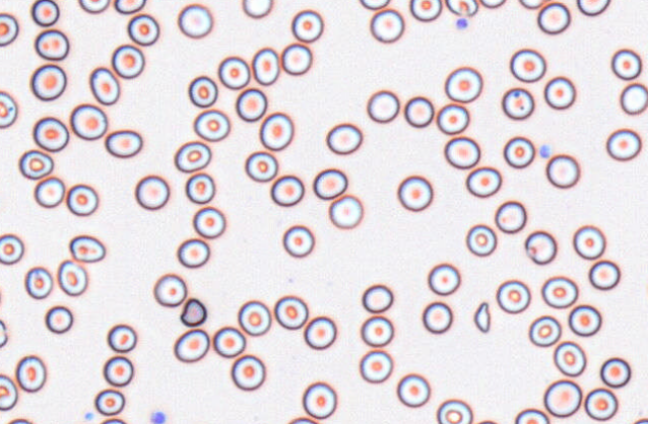PLT: (150, 410, 166, 424), (539, 143, 553, 158), (455, 18, 468, 30), (84, 412, 96, 421)
RBC: (543, 379, 582, 417), (69, 103, 107, 140), (444, 66, 482, 103), (30, 63, 66, 101), (259, 111, 293, 151), (397, 174, 433, 211), (32, 116, 69, 152), (302, 381, 337, 419), (230, 354, 265, 391), (509, 47, 546, 82), (177, 3, 213, 38), (134, 174, 169, 210), (237, 299, 271, 336), (545, 153, 580, 188), (369, 8, 404, 43), (328, 194, 363, 229), (173, 328, 209, 362), (193, 108, 230, 141), (541, 275, 578, 308), (89, 66, 120, 105), (273, 295, 308, 329), (358, 349, 393, 383), (495, 279, 530, 313), (572, 224, 606, 259), (553, 340, 586, 376), (444, 136, 480, 169), (605, 128, 641, 161), (325, 122, 362, 154), (174, 140, 211, 172), (15, 354, 46, 392), (396, 373, 430, 407), (111, 44, 144, 79), (303, 315, 336, 349), (153, 273, 187, 306), (584, 387, 618, 420), (524, 230, 557, 264), (217, 55, 250, 89), (543, 75, 576, 109), (366, 89, 399, 123), (312, 168, 347, 200), (34, 28, 69, 60), (465, 166, 501, 197), (57, 259, 87, 296), (104, 129, 142, 158), (427, 262, 460, 295), (537, 1, 570, 34), (528, 314, 561, 347), (501, 87, 534, 120), (235, 87, 267, 121), (270, 174, 304, 206), (244, 150, 278, 182), (251, 47, 279, 85), (568, 304, 601, 336), (127, 13, 159, 46), (465, 223, 497, 256), (360, 315, 393, 347), (503, 135, 535, 168), (494, 200, 526, 233), (66, 183, 98, 216), (291, 9, 323, 42), (192, 206, 225, 238), (282, 224, 314, 257), (18, 149, 53, 179), (610, 48, 642, 80), (599, 356, 631, 388), (212, 326, 245, 357), (421, 301, 452, 334), (436, 103, 469, 134), (176, 237, 209, 268), (281, 42, 312, 75), (69, 234, 105, 262), (33, 176, 64, 208), (187, 75, 218, 107), (588, 259, 620, 290), (102, 355, 133, 386), (361, 283, 393, 313), (404, 95, 434, 127), (185, 172, 215, 204), (619, 82, 648, 115), (436, 398, 472, 424), (24, 266, 52, 299), (106, 323, 136, 352), (94, 388, 125, 416), (44, 305, 73, 333), (30, 0, 59, 26), (0, 233, 23, 264), (409, 0, 442, 21), (0, 373, 18, 411), (0, 89, 17, 128), (0, 12, 18, 46), (241, 0, 273, 18), (445, 0, 478, 17), (576, 0, 611, 16), (514, 408, 549, 424), (114, 0, 146, 14), (77, 0, 110, 13), (358, 0, 390, 10), (286, 416, 320, 424), (518, 0, 546, 9), (0, 318, 8, 348), (479, 0, 506, 8), (4, 417, 34, 424), (98, 417, 127, 424), (644, 268, 648, 309), (473, 419, 500, 424), (630, 417, 648, 424), (0, 283, 3, 310)
Schistocyte: (180, 298, 207, 327), (473, 301, 492, 333)
